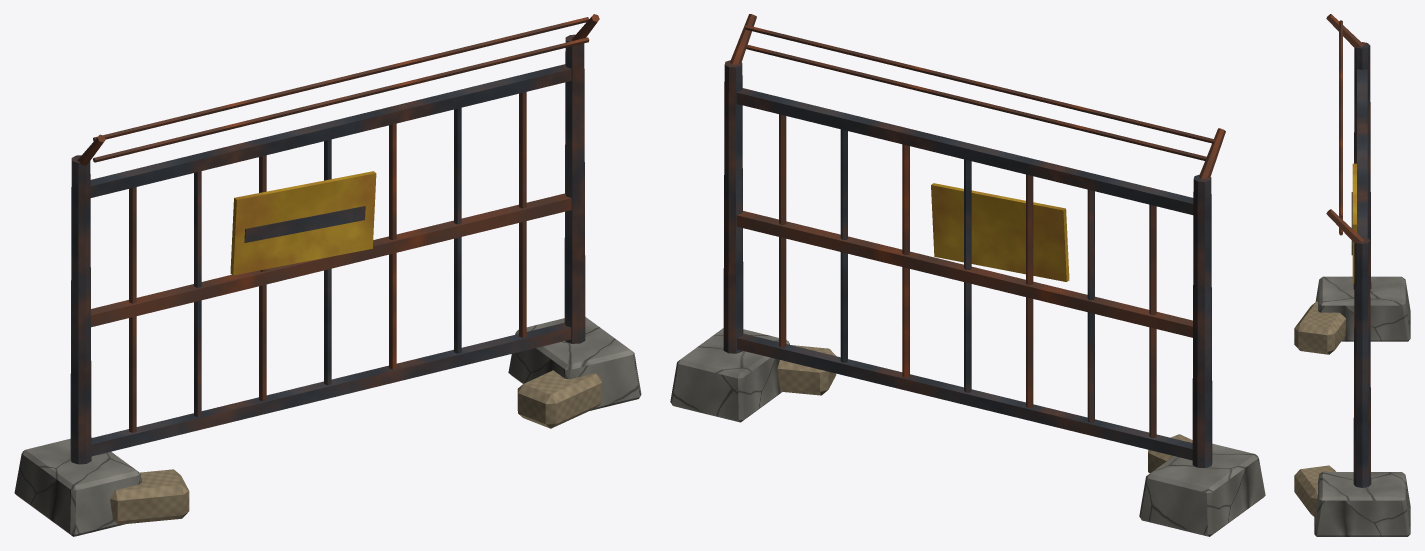
File: env_barricade_gate.glb
3 renders of one model, left to right at view 1: azimuth 30°, elevation 25°; view 2: azimuth 150°, elevation 25°; view 3: azimuth 270°, elevation 25°, orthographic. The views are drawn at different scales.
Parts seen in each view (by area): view 1: Env_barricade_gate; view 2: Env_barricade_gate; view 3: Env_barricade_gate.
Part boxes in pixels (left/top/right/bottom): Env_barricade_gate: left=14, top=14, right=641, bottom=536; Env_barricade_gate: left=670, top=14, right=1265, bottom=536; Env_barricade_gate: left=1294, top=14, right=1410, bottom=536.
Bounding box in the file's own units: 3.52 × 2.28 × 0.7647.
Materials: 5 (5 with a texture image).
